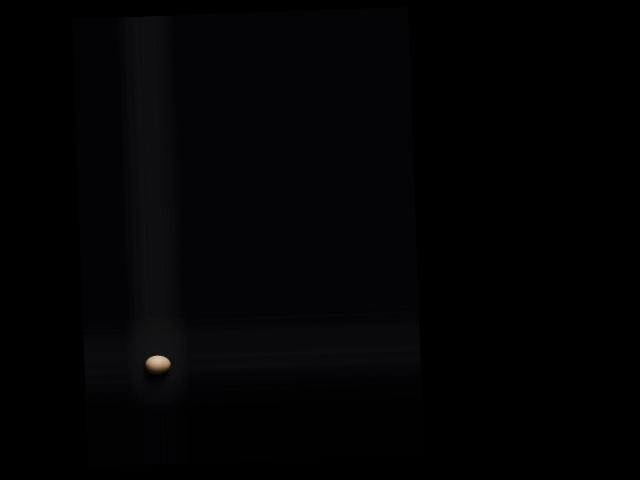egg: (144, 354, 171, 374)
